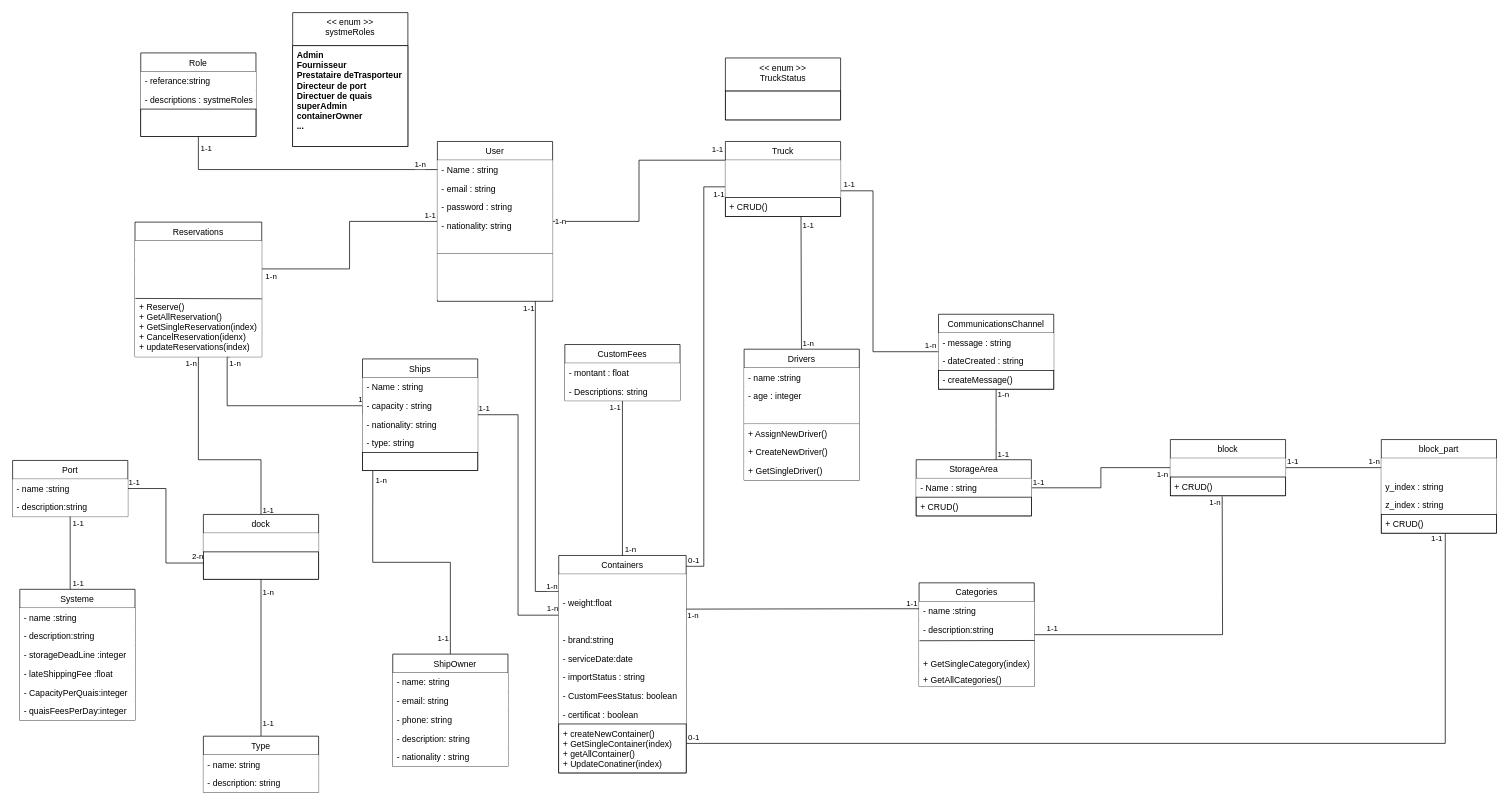
This 1509x807 diagram has some shape labels left out. Here are the shapes that lost their labels. From the top down, the centre of each, then its label:
At pixel 198 122: "+ assigneRole() + createNewRole()".
At pixel 783 105: "Intern Extern".
At pixel 782 169: "- matricule : string".
At pixel 782 188: "- status: TruckStatus".
At pixel 198 249: "- referance : string".
At pixel 494 244: "- orginasation: string".
At pixel 198 268: "- dateCheckIn : string".
At pixel 198 287: "- numberOfContainer : integer".
At pixel 494 276: "+ GetAllUSer() + GetSingleUser(index) + DeleteUSer(index) + UpdateUser(idenx)".
At pixel 801 414: "- driverLIcenseIndex : string".
At pixel 420 461: "+ CRUD_SHIP()".
At pixel 1227 467: "- reference : string".
At pixel 1438 467: "x_index : string".
At pixel 260 542: "- reference: string".
At pixel 261 565: "+ CRUD() + IsAvailable()".
At pixel 622 583: "- reference:string".
At pixel 622 620: "- dimensions:string".
At pixel 976 646: "+ AddNewCategory()".
